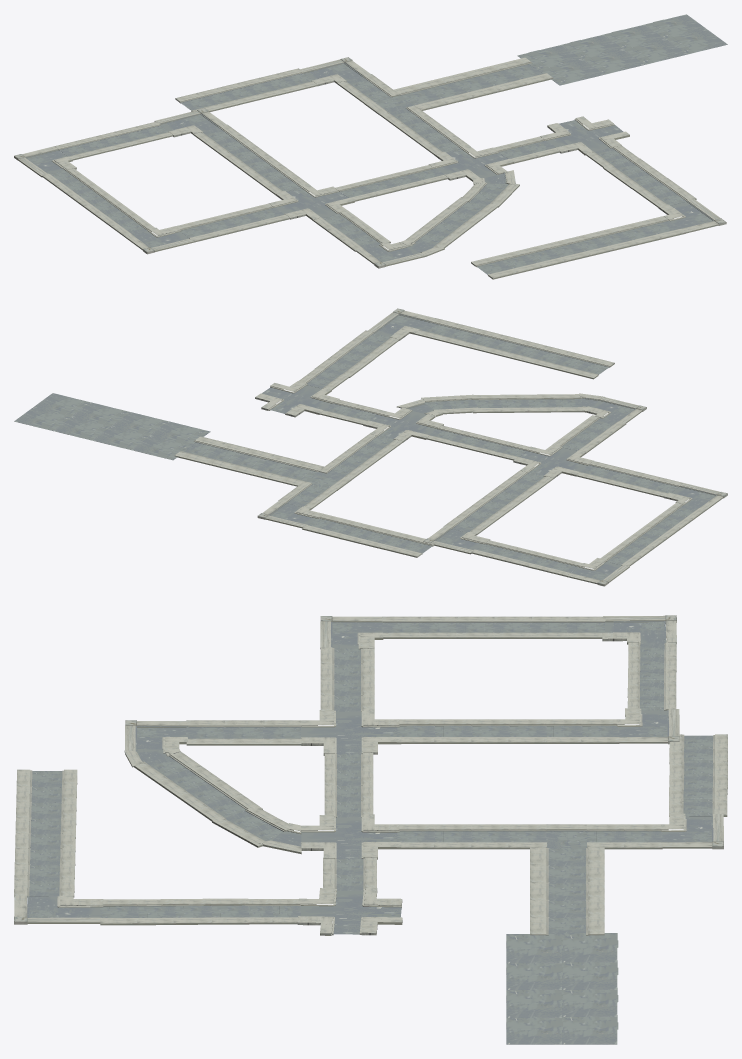
Rendered from zona01Completacalles.fbx.
The picture shows the model from 3 angles, top to bottom: view 1: azimuth 30°, elevation 25°; view 2: azimuth 150°, elevation 25°; view 3: azimuth 270°, elevation 25°; orthographic projection. The views are drawn at different scales.
Parts seen in each view (by area): view 1: Carretera.005, AceraRectaSmall.005, Carretera.025, AceraRectaSmall.017, Carretera.015, Carretera.008, Carretera.007, AceraRectaSmall.011, AceraLarga2, Carretera.017, AceraRectaSmall.001; view 2: Carretera.005, AceraRectaSmall.005, Carretera.025, AceraRectaSmall.017, Carretera.015, Carretera.008, Carretera.007, AceraRectaSmall.011, AceraLarga2, Carretera.017, AceraRectaSmall.001; view 3: Carretera.005, AceraRectaSmall.005, Carretera.025, AceraRectaSmall.017, Carretera.015, Carretera.008, Carretera.007, AceraRectaSmall.011, AceraRectaSmall.001, Carretera.017, AceraLarga2, Carretera.001.
Boxes of the visible parts, <box> form: Carretera.005: <box>223,126,559,237</box>; AceraRectaSmall.005: <box>14,108,282,254</box>; Carretera.025: <box>471,116,726,279</box>; AceraRectaSmall.017: <box>175,57,399,111</box>; Carretera.015: <box>394,57,553,110</box>; Carretera.008: <box>517,34,644,85</box>; Carretera.007: <box>604,14,727,64</box>; AceraRectaSmall.011: <box>405,218,470,247</box>; AceraLarga2: <box>356,242,423,268</box>; Carretera.017: <box>380,105,442,134</box>; AceraRectaSmall.001: <box>327,221,390,251</box>; Carretera.005: <box>319,394,638,496</box>; AceraRectaSmall.005: <box>423,472,727,586</box>; Carretera.025: <box>255,308,614,417</box>; AceraRectaSmall.017: <box>257,481,433,557</box>; Carretera.015: <box>174,436,323,486</box>; Carretera.008: <box>92,412,210,460</box>; Carretera.007: <box>14,393,130,441</box>; AceraRectaSmall.011: <box>526,394,583,412</box>; AceraLarga2: <box>587,397,646,423</box>; Carretera.017: <box>318,452,377,479</box>; AceraRectaSmall.001: <box>566,415,626,442</box>; Carretera.005: <box>173,679,472,890</box>; AceraRectaSmall.005: <box>320,615,679,744</box>; Carretera.025: <box>14,769,402,935</box>; AceraRectaSmall.017: <box>586,734,727,849</box>; Carretera.015: <box>530,847,604,935</box>; Carretera.008: <box>506,933,618,989</box>; Carretera.007: <box>506,988,618,1044</box>; AceraRectaSmall.011: <box>133,751,221,794</box>; AceraRectaSmall.001: <box>186,720,262,745</box>; Carretera.017: <box>471,824,547,849</box>; AceraLarga2: <box>125,720,188,754</box>; Carretera.001: <box>546,831,587,849</box>.
Size of the model in its own units: 14607 by 47.6 by 10310.
Materials: 5 (5 with a texture image).
